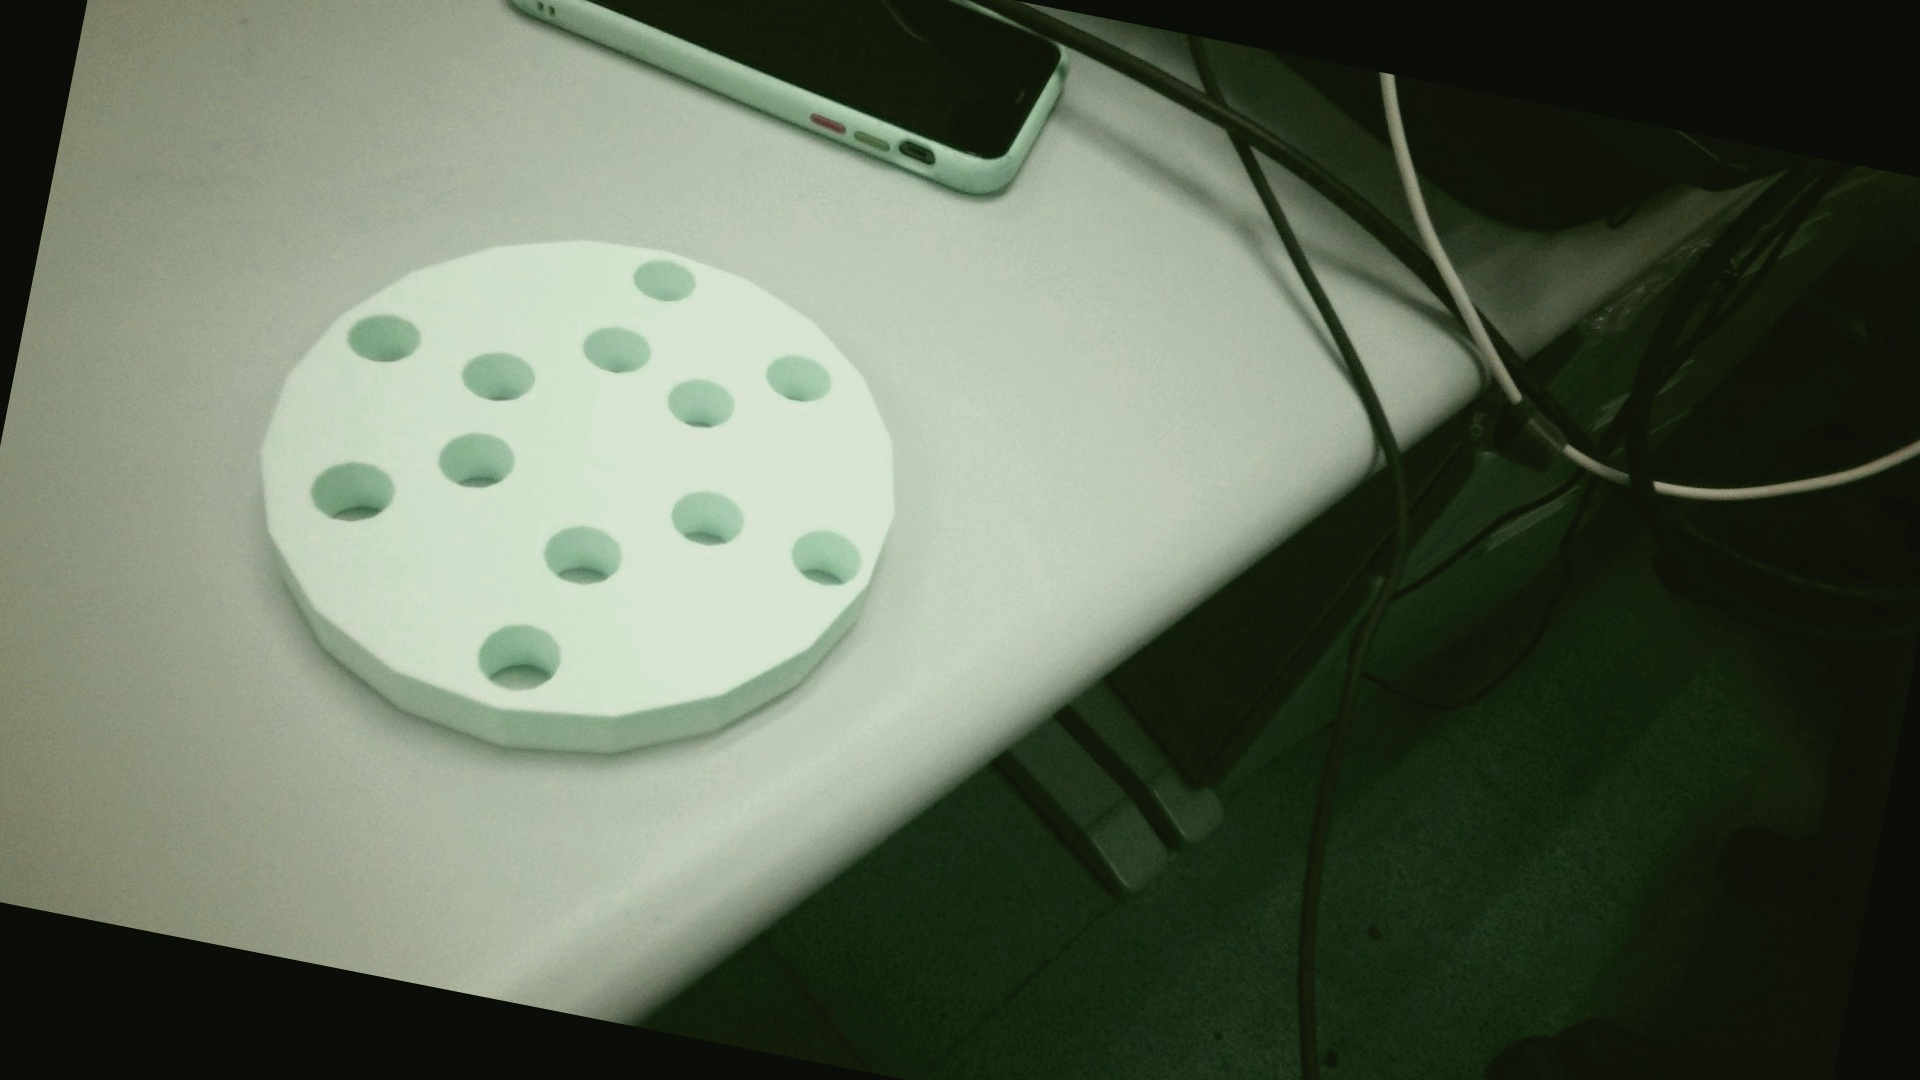hole: (450, 334, 550, 415), (305, 448, 398, 534), (471, 617, 568, 699), (430, 419, 524, 497), (335, 299, 430, 373), (541, 517, 628, 593), (669, 483, 746, 556), (666, 373, 736, 442), (582, 318, 655, 380), (625, 252, 700, 309), (799, 529, 865, 589), (764, 351, 831, 407)
obj: (198, 157, 943, 835)
